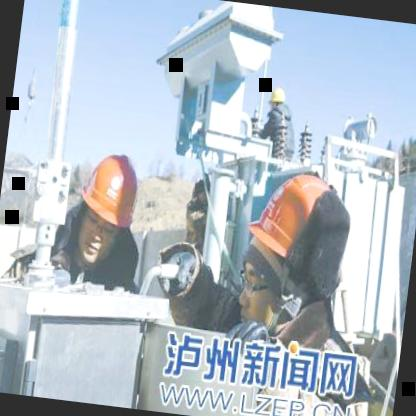helmet: (233, 164, 359, 335), (73, 143, 143, 263), (265, 80, 290, 115)
